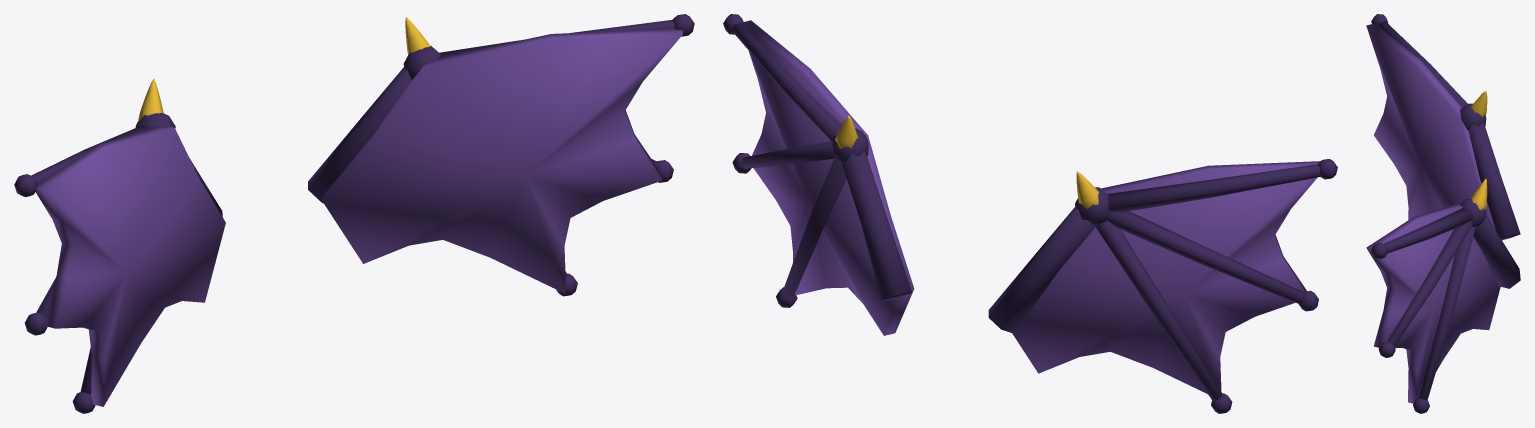
The model's file is ailes_chauve_souris.fbx.
3 views of the same model, side by side, from view 1: azimuth 30°, elevation 25°; view 2: azimuth 150°, elevation 25°; view 3: azimuth 270°, elevation 25° (orthographic). The views are drawn at different scales.
Parts seen in each view (by area): view 1: Anim_AileGauche, Anim_AileDroite; view 2: Anim_AileDroite, Anim_AileGauche; view 3: Anim_AileGauche, Anim_AileDroite.
Part boxes in pixels (x1,y1,x2,y2): Anim_AileGauche: (308,14,694,296); Anim_AileDroite: (14,78,225,413); Anim_AileDroite: (988,159,1337,413); Anim_AileGauche: (723,14,914,335); Anim_AileGauche: (1366,178,1520,413); Anim_AileDroite: (1366,14,1520,240).
Size of the model in its own units: 1.61 by 0.6401 by 0.4465.
